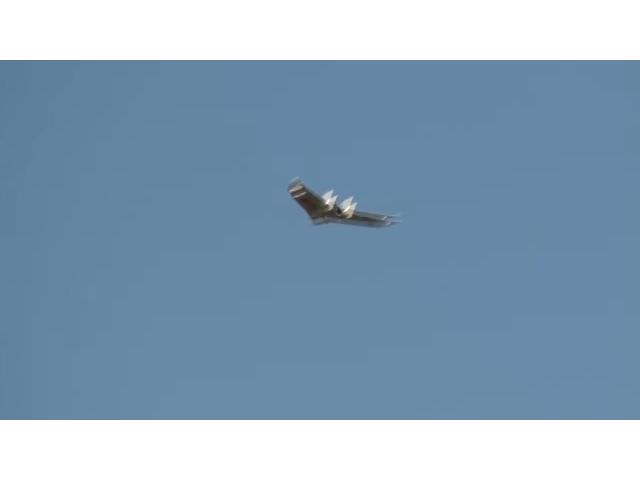Anti-Drone: (288, 178, 396, 226)
